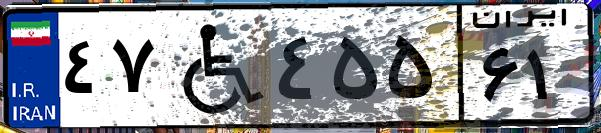1: (525, 38, 570, 115)
4: (270, 28, 330, 110), (57, 26, 110, 100)
5: (385, 28, 445, 110), (330, 28, 385, 110)
6: (475, 38, 525, 113)
7: (110, 28, 158, 98)
ژ (معلولین و جانبازان): (158, 12, 270, 120)
